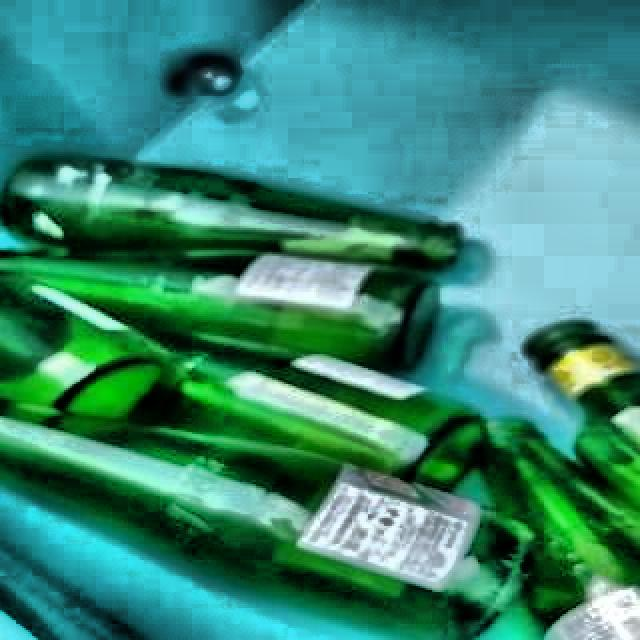glass: (0, 155, 640, 640)
